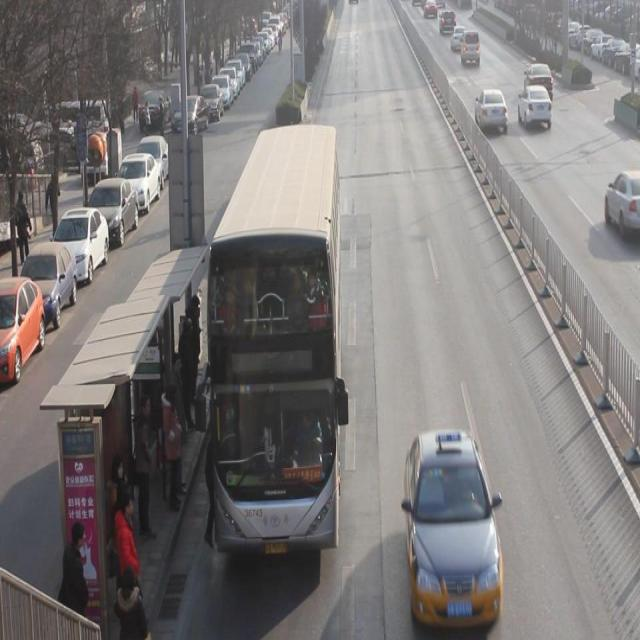car: (402, 434, 504, 610), (605, 173, 640, 236), (516, 86, 552, 132), (474, 90, 509, 136), (523, 63, 553, 99), (450, 25, 466, 53), (439, 10, 456, 36)
truck: (460, 29, 480, 68)
van: (205, 132, 338, 551)
